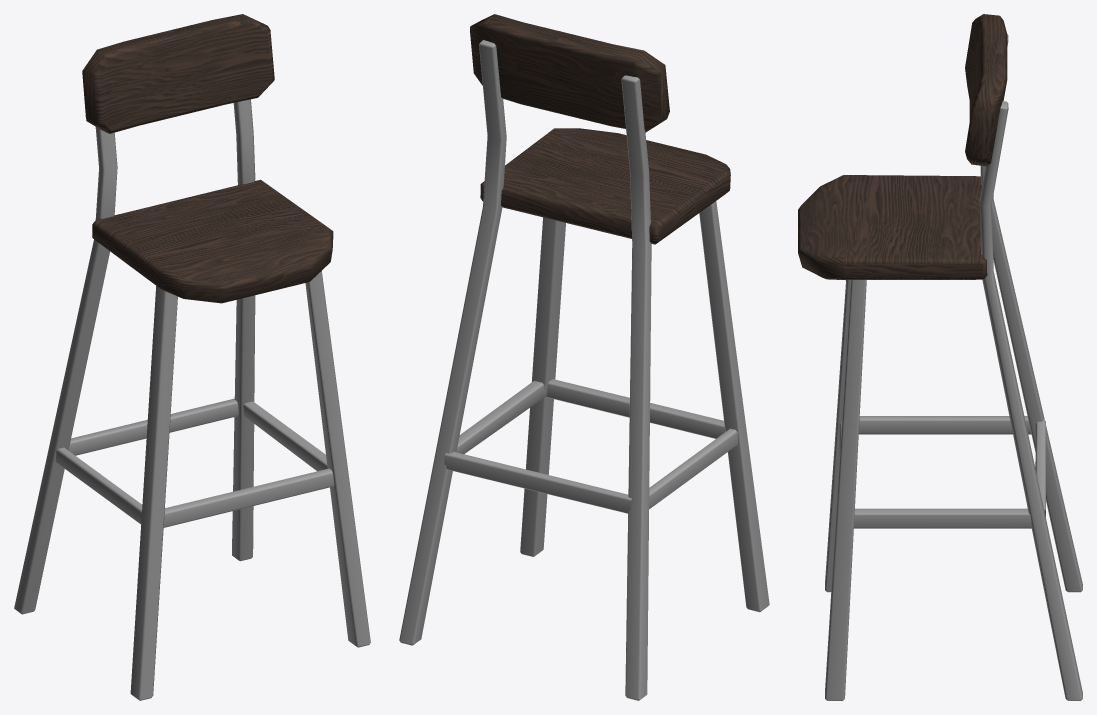
Rendered from chair_041.fbx.
The picture shows the model from 3 angles, left to right: view 1: azimuth 30°, elevation 25°; view 2: azimuth 150°, elevation 25°; view 3: azimuth 270°, elevation 25°; orthographic projection. The views are drawn at different scales.
Visible parts, largest first — view 1: chair_041; view 2: chair_041; view 3: chair_041.
Part boxes in pixels (box(x1,y1,x2,y2)): chair_041: box(14, 14, 370, 700); chair_041: box(399, 14, 769, 700); chair_041: box(798, 14, 1082, 700).
Size of the model in its own units: 57.68 by 59.88 by 138.
